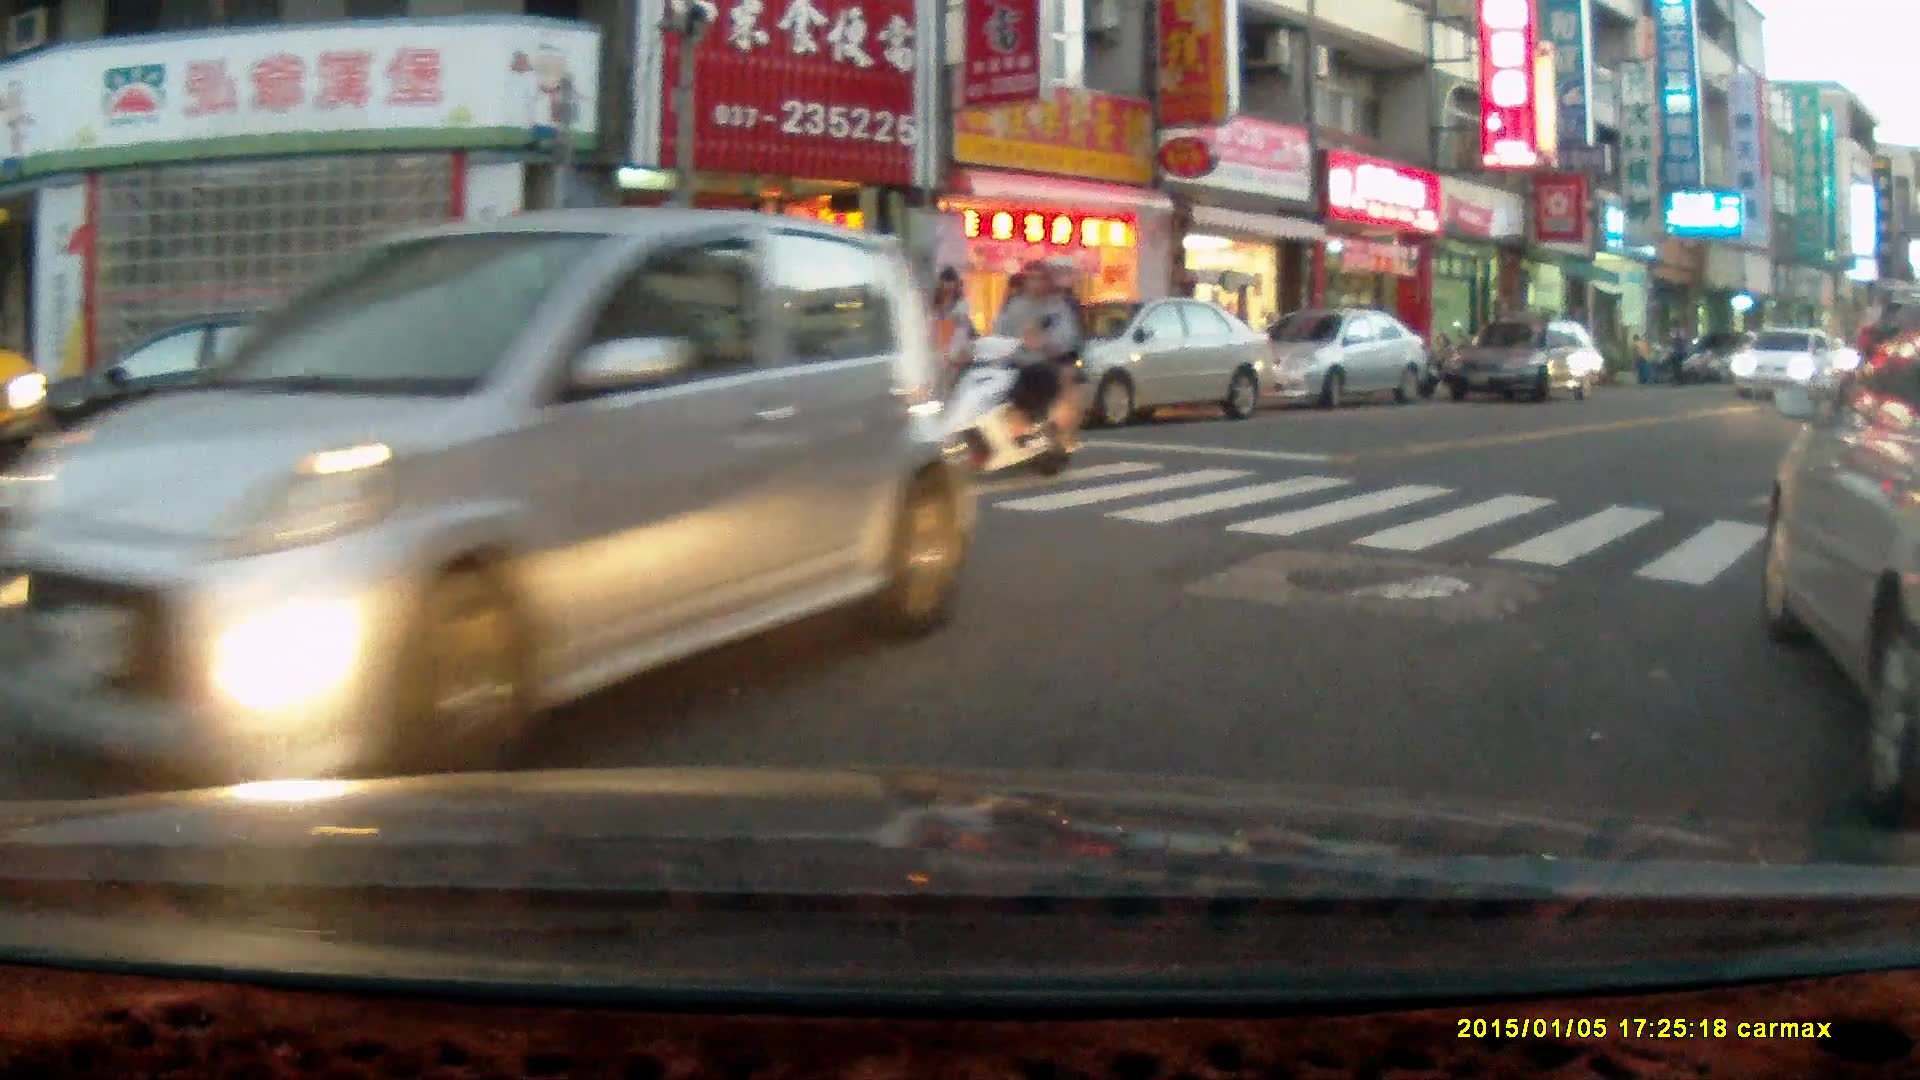pedestrian: (922, 266, 974, 427)
rider: (918, 252, 1089, 485)
vehicle: (1, 205, 979, 783), (1754, 314, 1920, 760), (1004, 297, 1281, 423), (1241, 309, 1433, 404), (1439, 317, 1608, 408), (1725, 324, 1846, 401)
